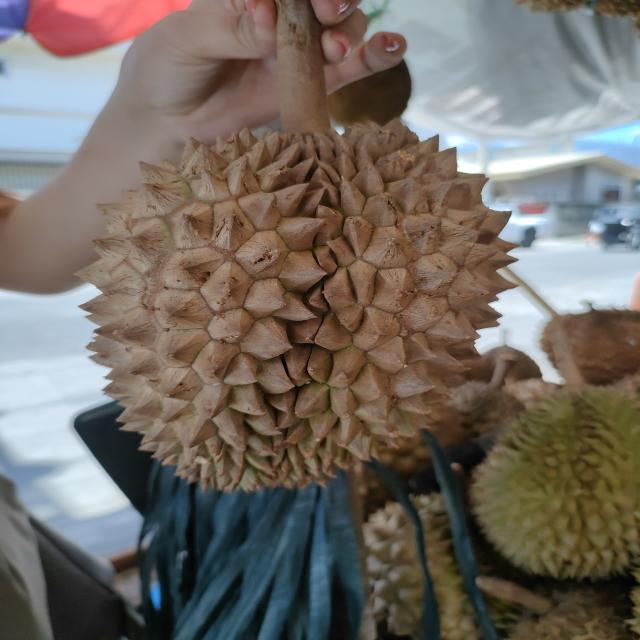mature: (78, 116, 523, 496)
